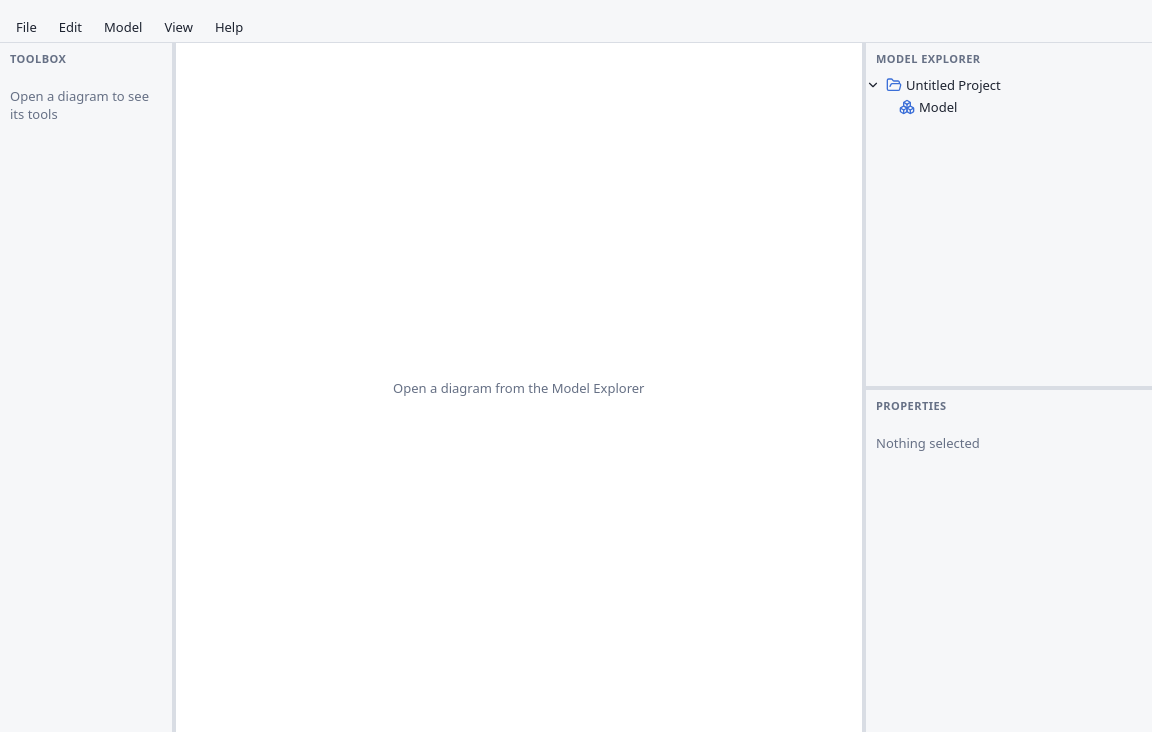
Scenario: Shell › opens a project and lists it under Open Recent
Click the menu item "File" at (26, 27), box [6,14,47,40]
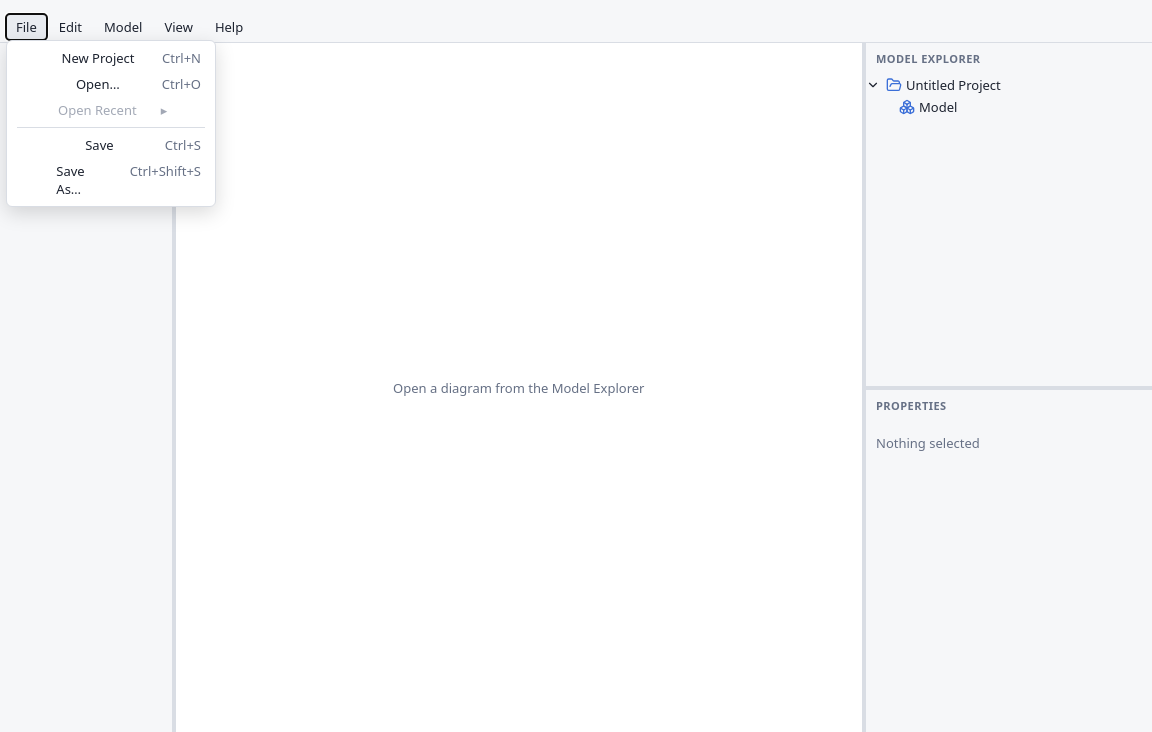
Click the menu item "Open… Ctrl+O" at (111, 84), box [11,71,211,97]
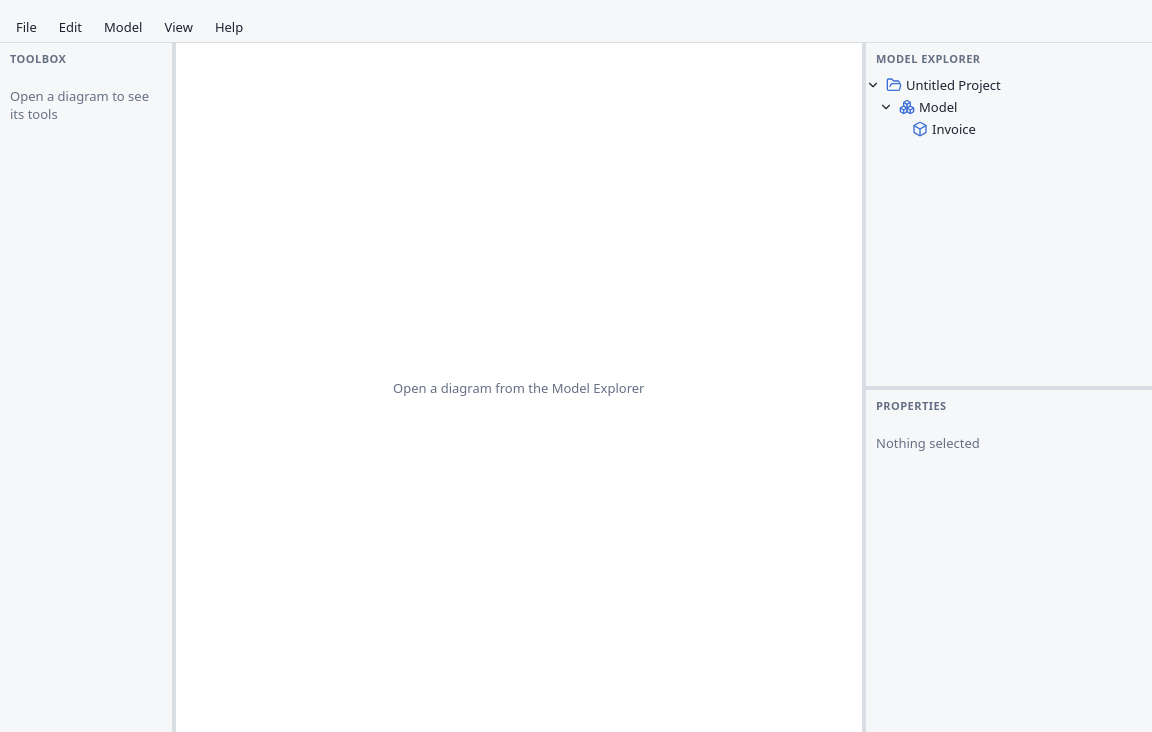
expect the list item "Invoice" is shown: met, box [912,120,976,138]
Click the menu item "File" at (26, 27), box [6,14,47,40]
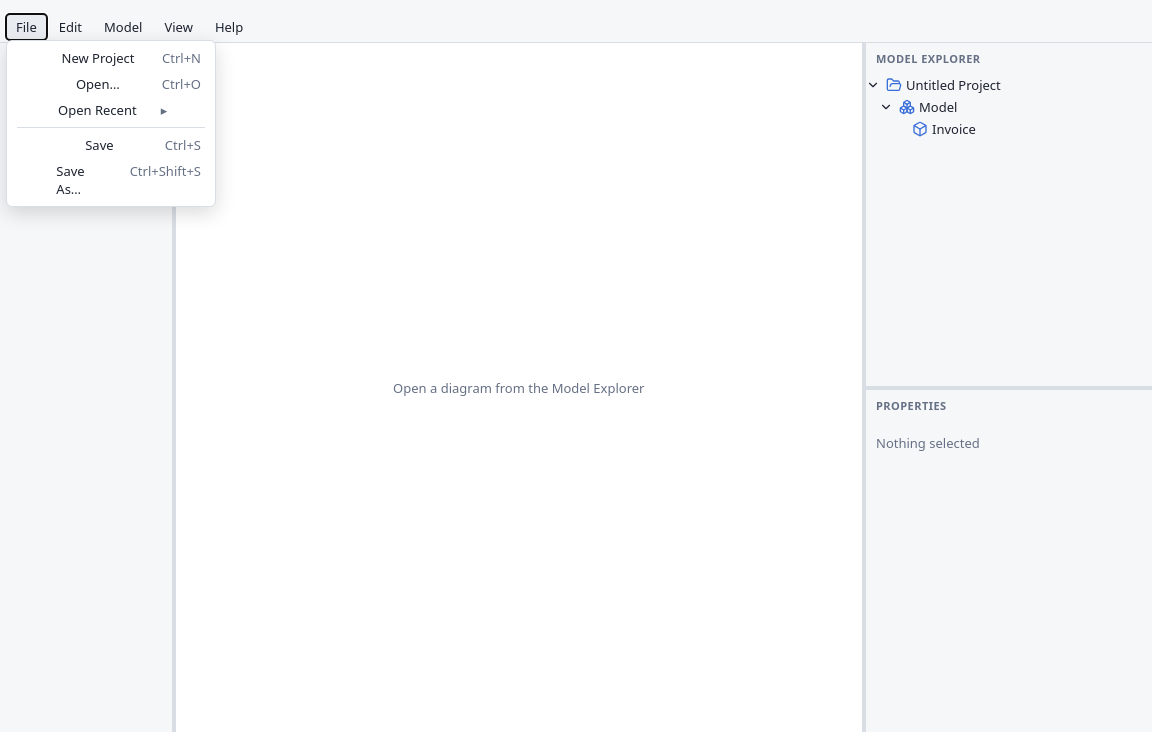
Click the menu item "Open Recent ▸" at (94, 110), box [11,97,177,123]
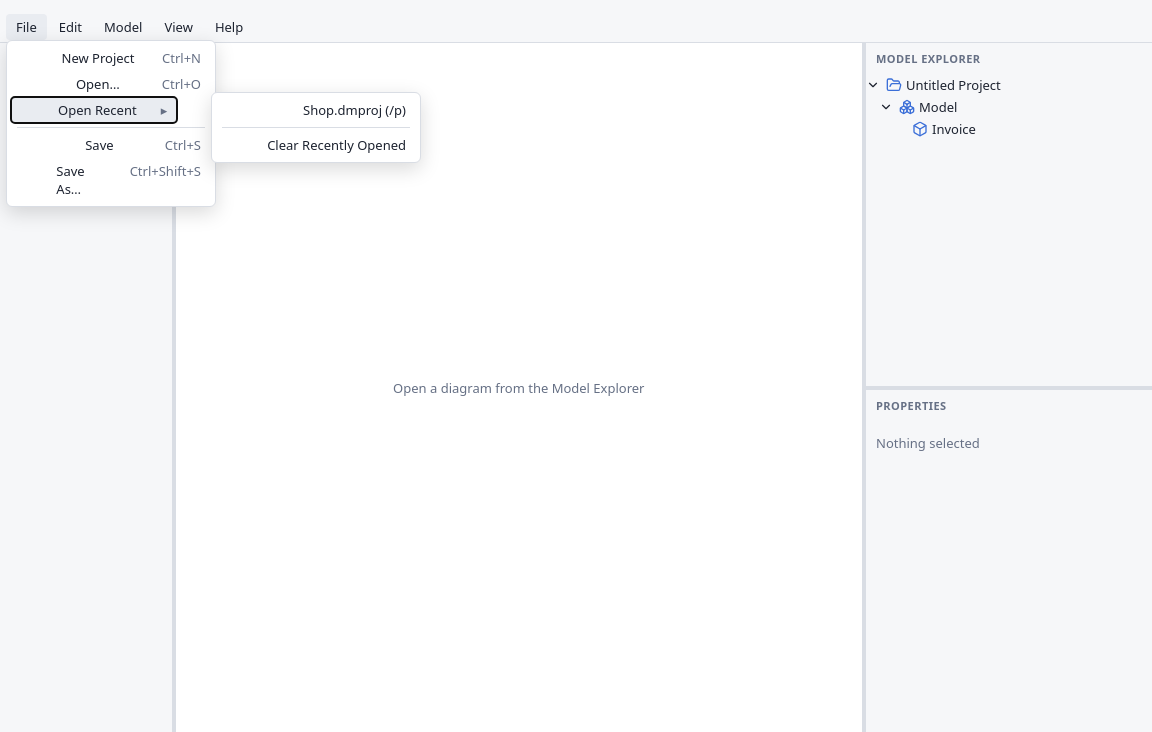
expect the menu item "Shop.dmproj (/p)" is shown: met, box [216,97,416,123]
